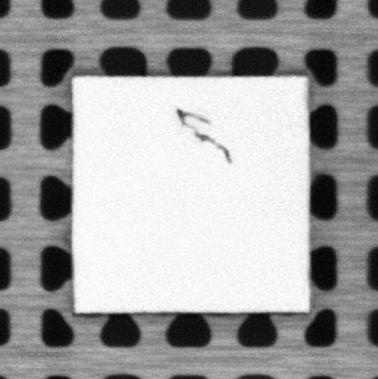DIE_INK: (175, 106, 233, 165)
